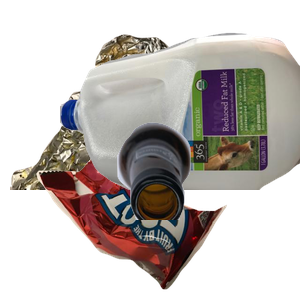glass: (115, 120, 300, 300)
metal: (10, 32, 250, 212)
plastic: (60, 30, 300, 210)
trash: (34, 136, 253, 300)
